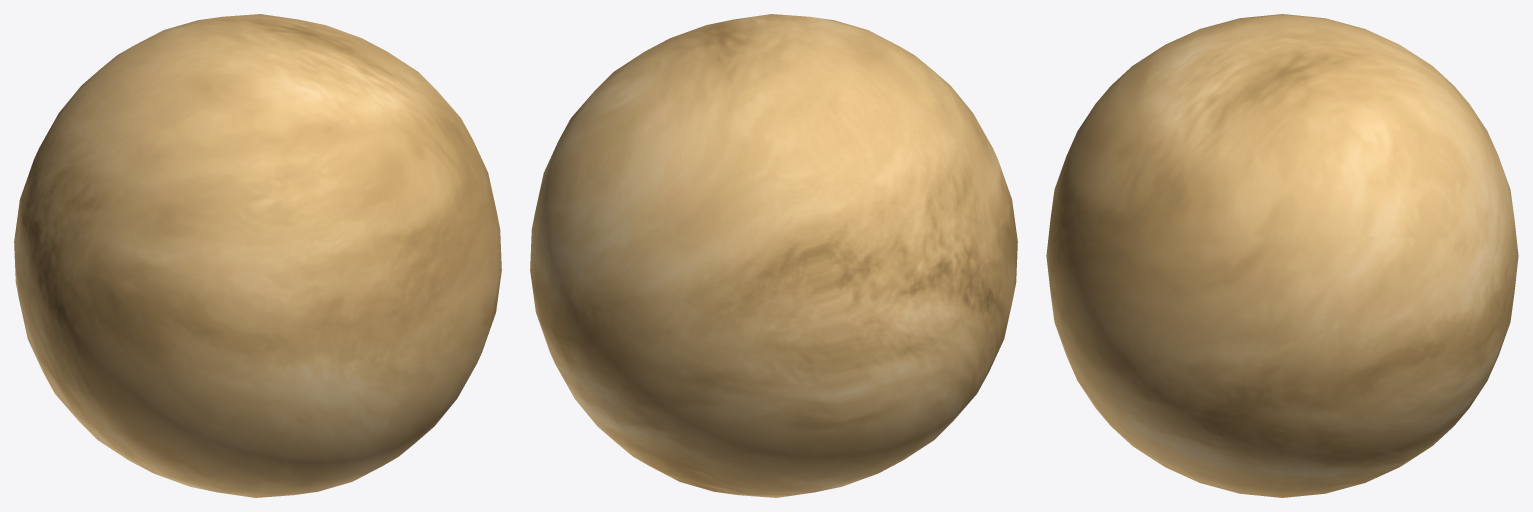
Rendered from Venus_1K.fbx.
3 views of the same model, side by side, from view 1: azimuth 30°, elevation 25°; view 2: azimuth 150°, elevation 25°; view 3: azimuth 270°, elevation 25° (orthographic).
Visible parts, largest first — view 1: Venus; view 2: Venus; view 3: Venus.
Boxes of the visible parts, <box> form: Venus: <box>14,14,501,497</box>; Venus: <box>530,14,1017,497</box>; Venus: <box>1046,14,1518,497</box>.
Bounding box in the file's own units: 11076 × 11076 × 11045.
Materials: 1 (1 with a texture image).
